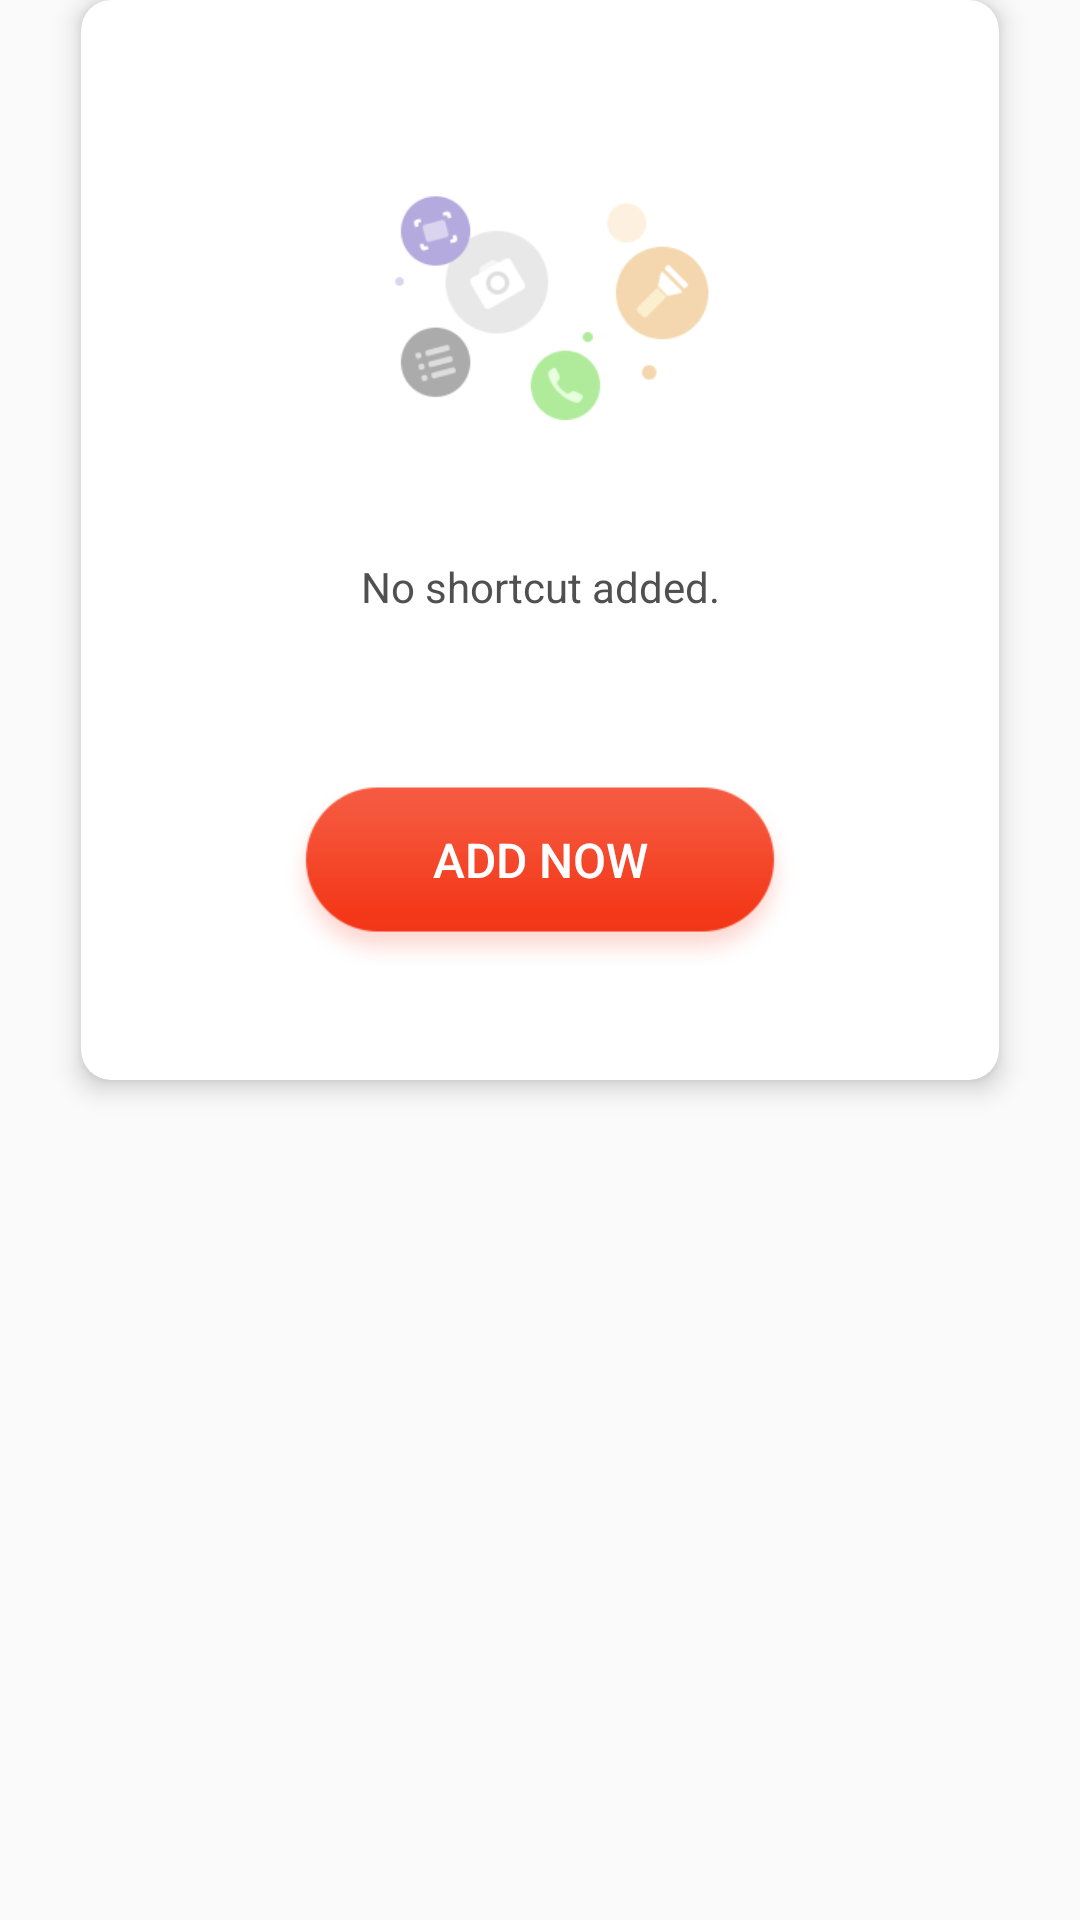

Icon bounding boxes for this 1080 × 1920 phone screenshot, format {"left": x1, "top": y1, "right": x2, "bottom": y2}:
tool pic: {"left": 395, "top": 196, "right": 709, "bottom": 420}
